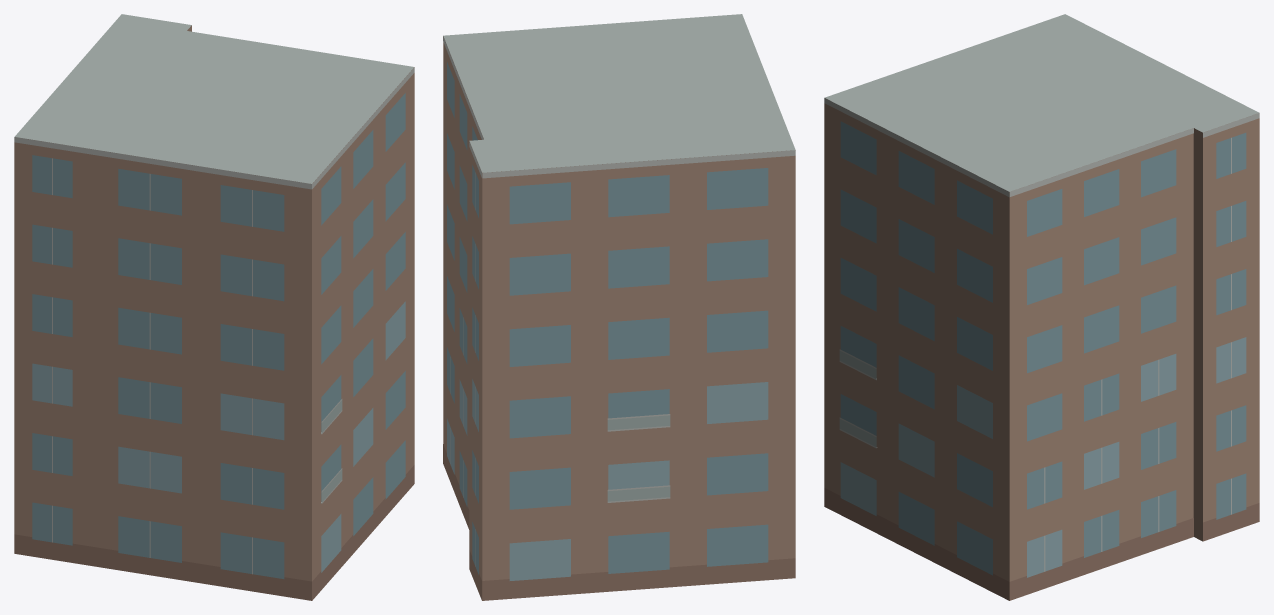
File: survey-upis-32867680.glb
3 views of the same model, side by side, from view 1: azimuth 30°, elevation 25°; view 2: azimuth 150°, elevation 25°; view 3: azimuth 270°, elevation 25° (orthographic). The views are drawn at different scales.
Visible parts, largest first — view 1: survey-upis-32867680.tmp; view 2: survey-upis-32867680.tmp; view 3: survey-upis-32867680.tmp.
Part boxes in pixels (bbox=[...]): survey-upis-32867680.tmp: bbox=[14, 14, 414, 600]; survey-upis-32867680.tmp: bbox=[443, 14, 795, 600]; survey-upis-32867680.tmp: bbox=[824, 14, 1259, 600].
Size of the model in its own units: 17.27 by 18.5 by 17.85.
